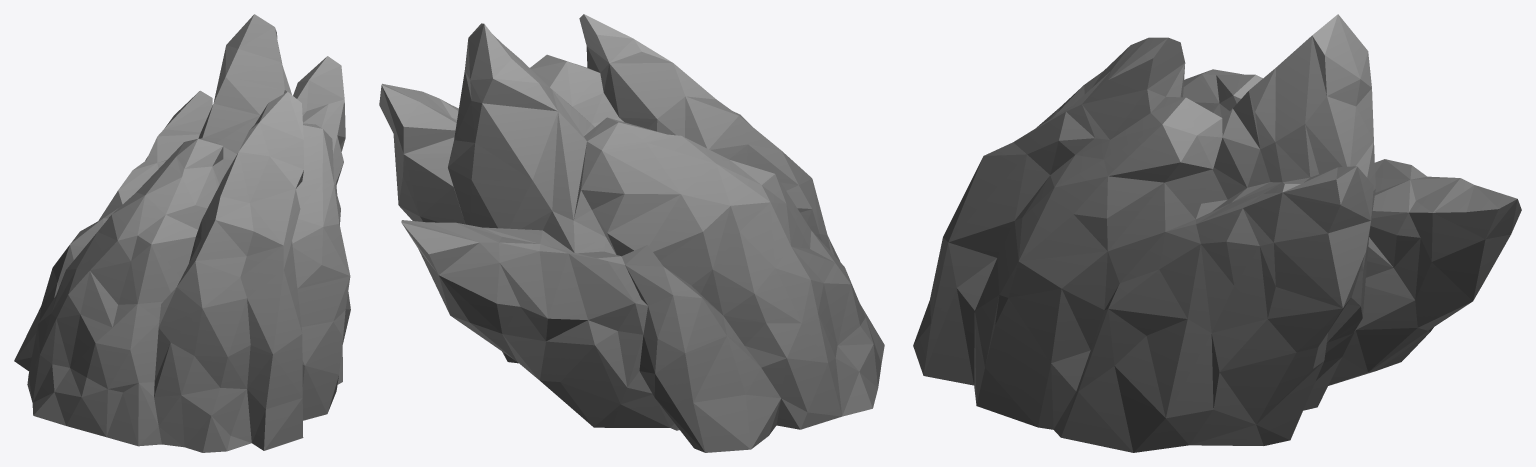
The model's file is stone-large-4.glb.
3 renders of one model, left to right at view 1: azimuth 30°, elevation 25°; view 2: azimuth 150°, elevation 25°; view 3: azimuth 270°, elevation 25°, orthographic. The views are drawn at different scales.
Visible parts, largest first — view 1: stone large 4; view 2: stone large 4; view 3: stone large 4.
Part boxes in pixels (bbox=[...]): stone large 4: bbox=[14, 14, 350, 452]; stone large 4: bbox=[379, 14, 884, 452]; stone large 4: bbox=[913, 14, 1521, 452].
Bounding box in the file's own units: 12 × 9.39 × 12.09.
1 material, 1 textured.
